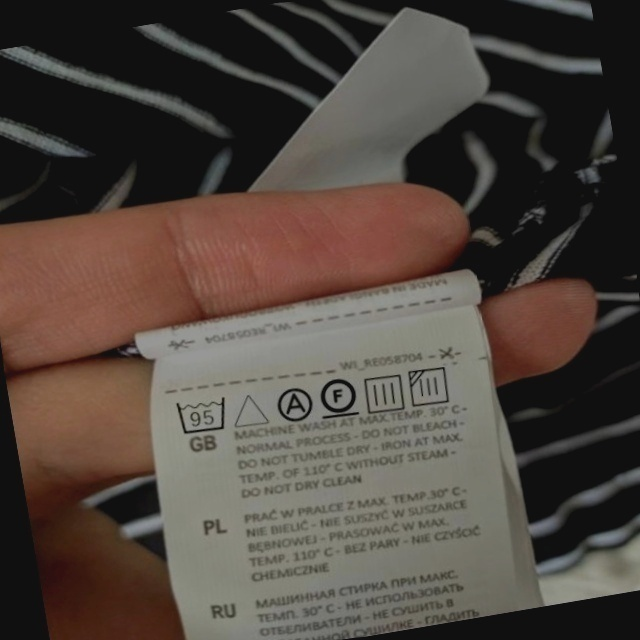95C: (172, 391, 233, 439)
bleach: (229, 386, 271, 433)
drip_dry: (359, 368, 409, 417)
drip_dry_in_shade: (406, 361, 457, 412)
dry_clean: (272, 383, 316, 426)
dry_clean_petrol_only: (316, 371, 362, 422)
